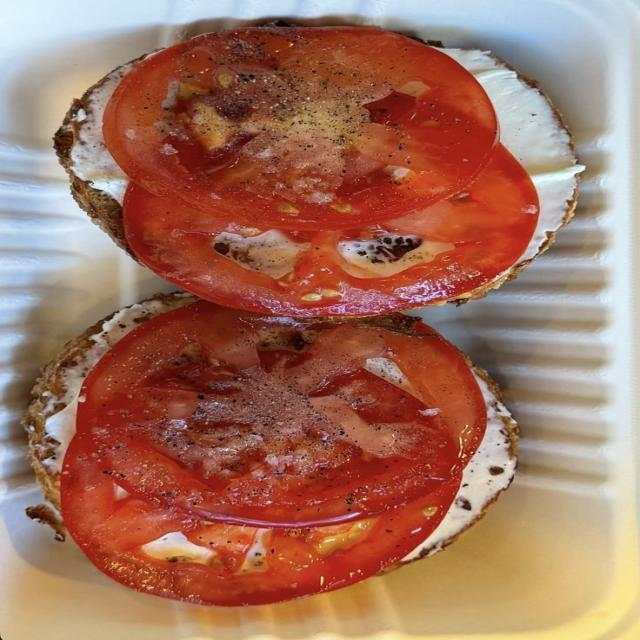sliced bread: (22, 312, 124, 540), (54, 56, 144, 260), (130, 294, 191, 328)
sliced tomatoe: (77, 302, 486, 527), (103, 27, 497, 228), (124, 147, 538, 316), (61, 435, 459, 605)
